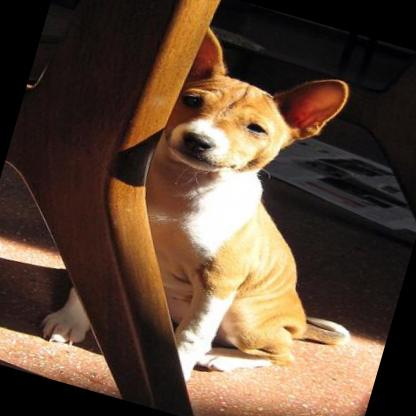basenji: (30, 2, 416, 416)
